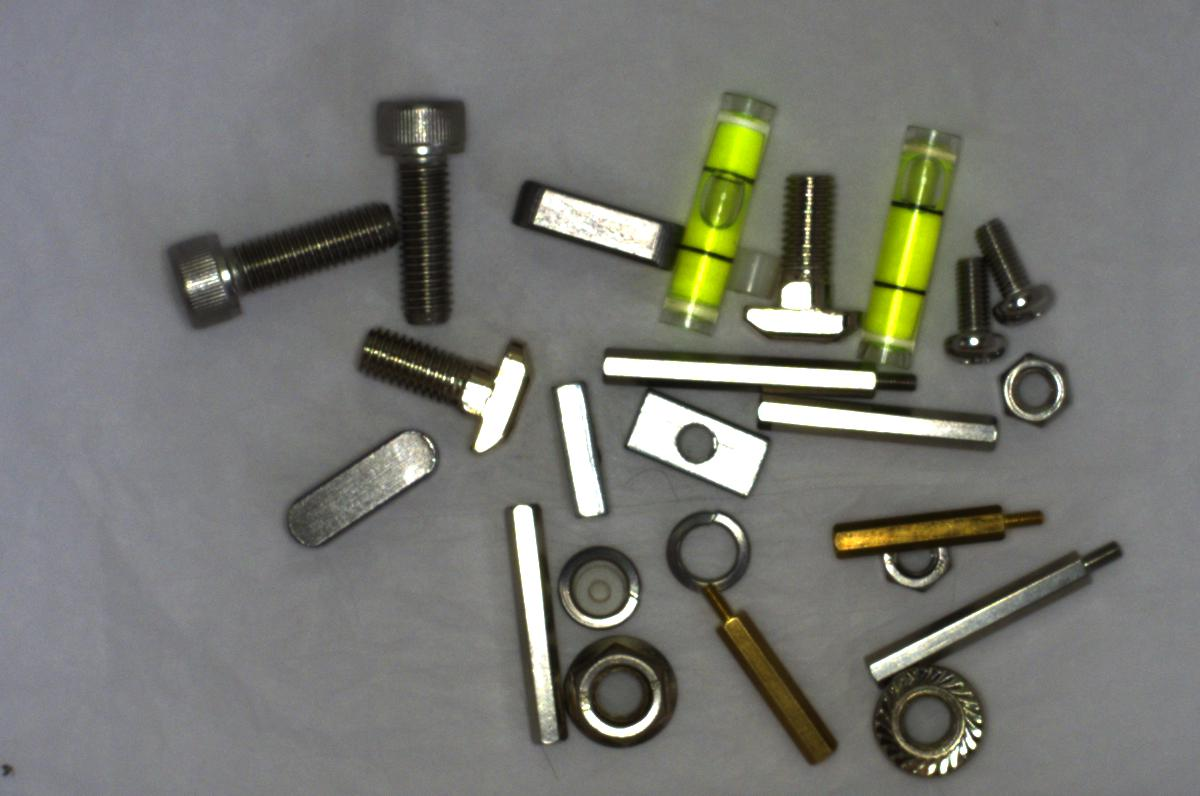Double hexagonal column: (747, 392, 1010, 467), (491, 492, 564, 756)
Flange nut: (862, 673, 1012, 790), (564, 635, 687, 754)
Hexagon nut: (991, 349, 1078, 428), (871, 518, 957, 594)
Hexagon pillar: (697, 591, 843, 774), (828, 495, 1057, 564)
Hexagon screw: (166, 201, 400, 335), (371, 90, 482, 323)
Hexagonal steel column: (830, 544, 1139, 676), (601, 345, 920, 403)
Horizontal bubble: (662, 94, 782, 326), (852, 117, 955, 348)
Keybar: (276, 412, 464, 556), (516, 171, 694, 277)
Plastic cushion pillar: (726, 235, 784, 298), (575, 562, 616, 614)
Rectangular nut: (620, 391, 774, 500), (548, 372, 616, 526)
Round head screw: (961, 204, 1062, 330), (934, 249, 1011, 369)
Spring washer: (661, 506, 761, 595), (555, 539, 644, 632)
T-shaped screw: (339, 314, 546, 451), (729, 150, 869, 342)
